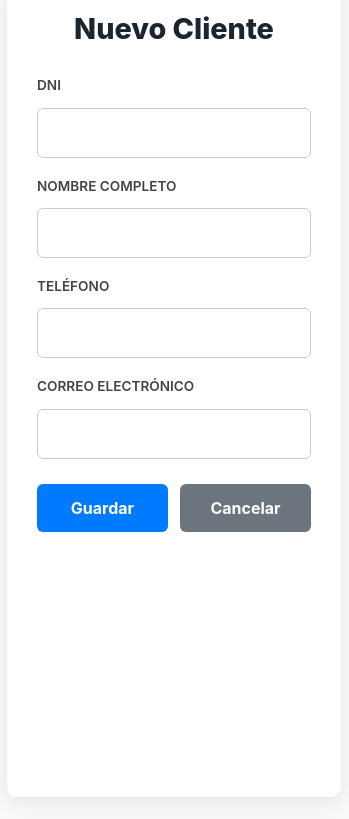
Test: Pruebas en el componente ClientForm › Renderizar los errores devueltos por el backend si falla la validación (400)
Type "12345678A" into the field labelled "DNI".
click(174, 133); type("12345678A")  # box [37,108,311,158]
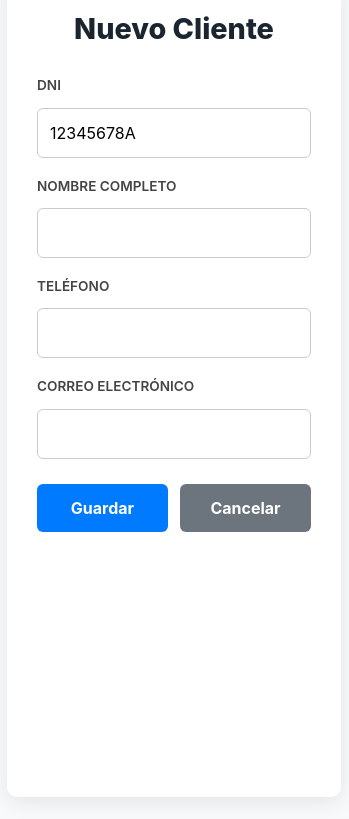
Type "Test" into the field labelled "Nombre Completo".
click(174, 233); type("Test")  # box [37,208,311,258]
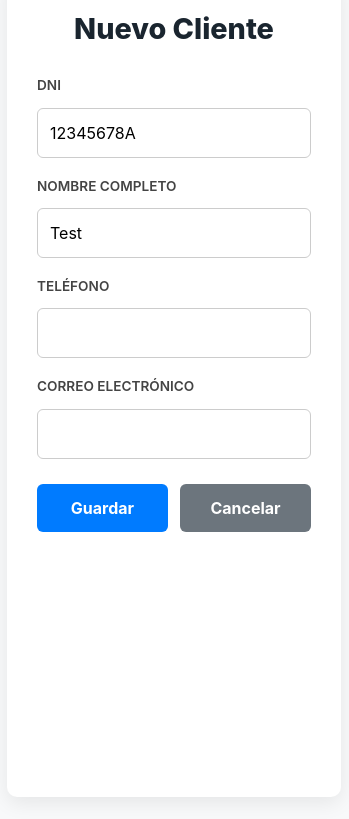
Type "123" into the field labelled "Teléfono".
click(174, 333); type("123")  # box [37,308,311,358]
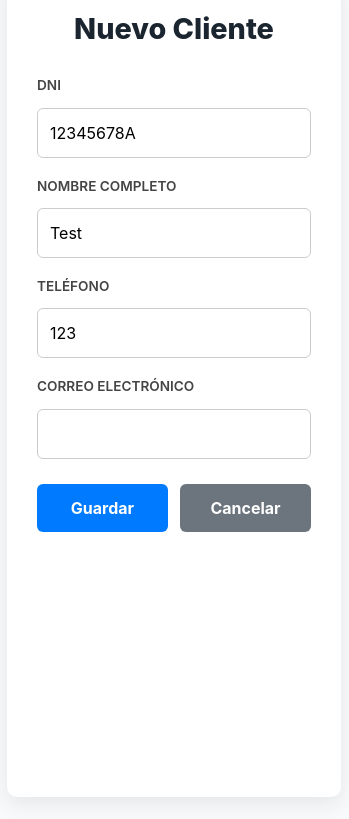
Type "test@email.com" into the field labelled "Correo Electrónico".
click(174, 434); type("test@email.com")  # box [37,409,311,459]
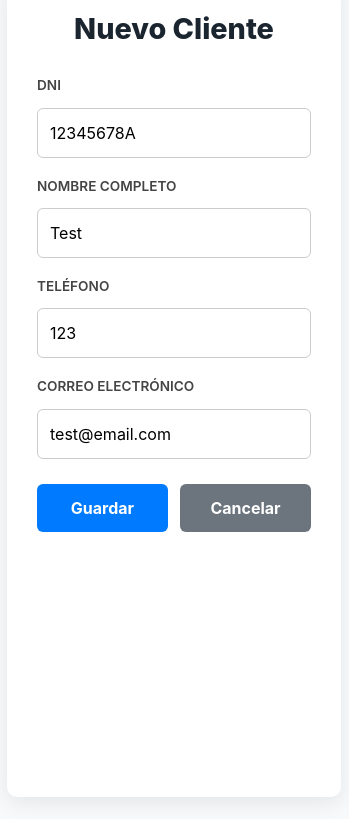
Click the button "Guardar".
click(102, 508)  # box [37,484,168,532]
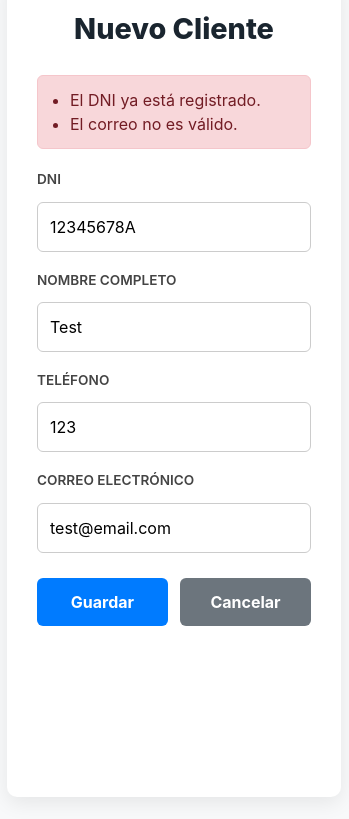
Now the list item "El DNI ya está registrado." is shown, box [70,90,261,110]
Now the list item "El correo no es válido." is shown, box [70,114,238,134]
